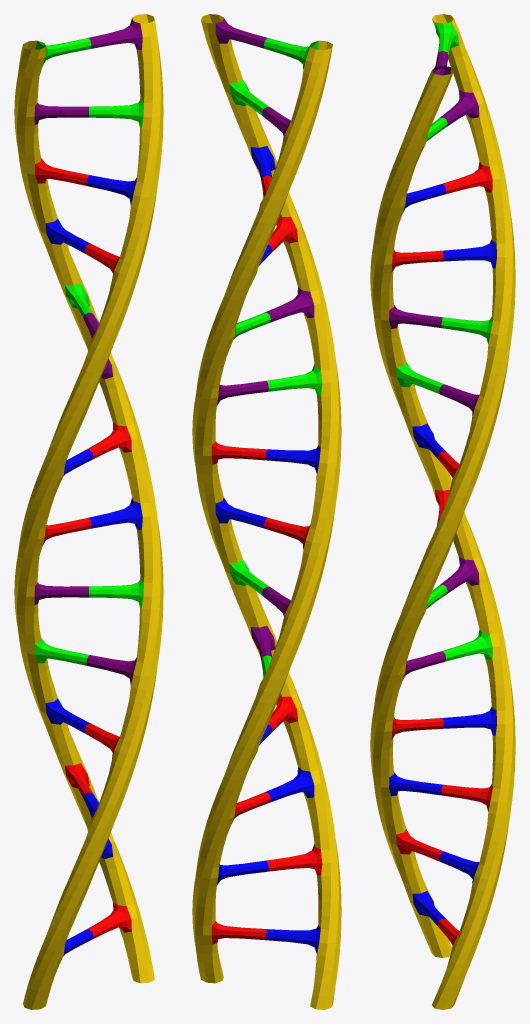
Rendered from dna.obj.
The picture shows the model from 3 angles, left to right: view 1: azimuth 30°, elevation 25°; view 2: azimuth 150°, elevation 25°; view 3: azimuth 270°, elevation 25°; orthographic projection. The views are drawn at different scales.
Parts seen in each view (by area): view 1: HaiBen, Trai.008, Phai.001, Trai.009, Phai.002, Trai.007, Phai.014, Phai.010, Trai.003, Trai.002, Phai.009, Phai.011 (+11 smaller); view 2: HaiBen, Trai.013, Phai.006, Trai.012, Phai.005, Phai.007, Trai.014, Trai.008, Phai.001, Trai.007, Phai.014, Trai.001 (+13 smaller); view 3: HaiBen, Phai.010, Trai.003, Trai.004, Phai.011, Trai.012, Trai.002, Phai.005, Phai.009, Trai.005, Phai.012, Trai.013 (+10 smaller).
Part boxes in pixels (box(x1,y1,x2,y2)): HaiBen: box(14, 14, 163, 1009); Trai.008: box(88, 498, 142, 529); Phai.001: box(87, 18, 142, 49); Trai.009: box(89, 579, 143, 607); Phai.002: box(89, 99, 143, 128); Trai.007: box(86, 422, 131, 459); Phai.014: box(86, 902, 131, 939); Phai.010: box(35, 638, 89, 665); Trai.003: box(35, 158, 89, 185); Trai.002: box(34, 102, 88, 124); Phai.009: box(34, 582, 88, 604); Phai.011: box(45, 698, 91, 733); HaiBen: box(192, 14, 341, 1009); Trai.013: box(266, 844, 322, 875); Phai.006: box(266, 364, 322, 395); Trai.012: box(264, 767, 314, 802); Phai.005: box(265, 287, 314, 322); Phai.007: box(266, 445, 320, 473); Trai.014: box(266, 925, 320, 953); Trai.008: box(215, 498, 267, 528); Phai.001: box(215, 18, 268, 48); Trai.007: box(211, 441, 266, 464); Phai.014: box(211, 921, 266, 944); Trai.001: box(263, 38, 318, 70); HaiBen: box(370, 14, 515, 1009); Phai.010: box(441, 629, 492, 661); Trai.003: box(441, 162, 492, 194); Trai.004: box(443, 239, 496, 268); Phai.011: box(443, 707, 496, 735); Trai.012: box(389, 772, 443, 796); Trai.002: box(440, 90, 479, 126); Phai.005: box(389, 305, 443, 328); Phai.009: box(440, 557, 479, 593); Trai.005: box(441, 317, 492, 343); Phai.012: box(441, 784, 492, 811); Trai.013: box(396, 829, 445, 861).
Size of the model in its own units: 11.83 by 84 by 11.83.
